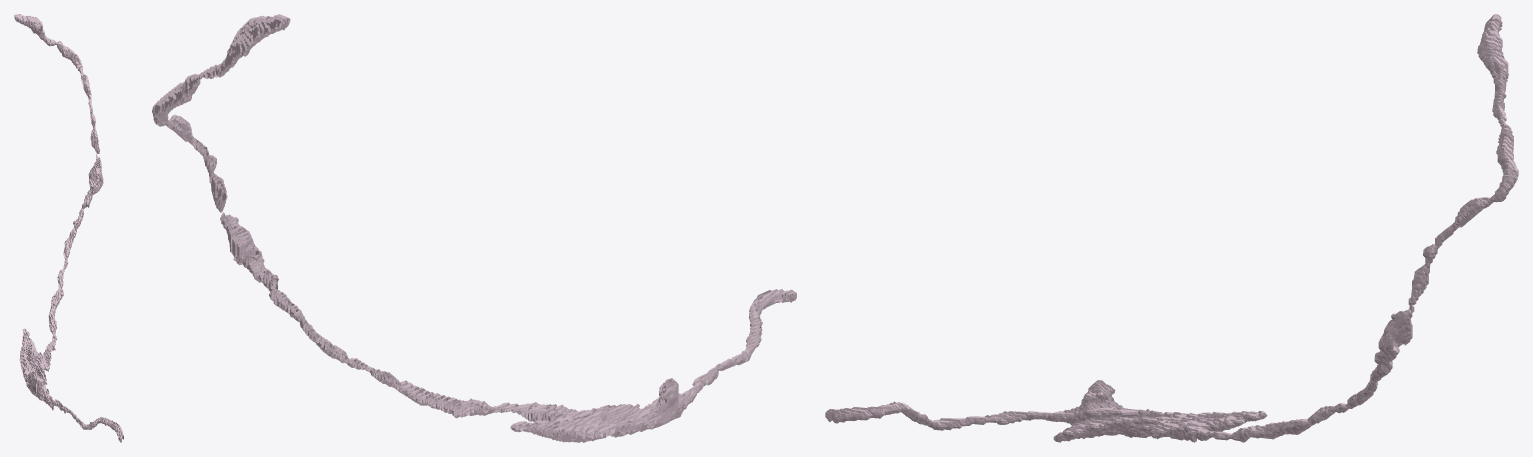
The model's file is SVV_AIYR.gltf.
3 renders of one model, left to right at view 1: azimuth 30°, elevation 25°; view 2: azimuth 150°, elevation 25°; view 3: azimuth 270°, elevation 25°, orthographic. The views are drawn at different scales.
Parts seen in each view (by area): view 1: AIYR; view 2: AIYR; view 3: AIYR.
Part boxes in pixels (bbox=[...]): AIYR: bbox=[14, 14, 123, 442]; AIYR: bbox=[152, 14, 796, 442]; AIYR: bbox=[825, 14, 1518, 442].
Size of the model in its own units: 94762 by 155653 by 194756.
